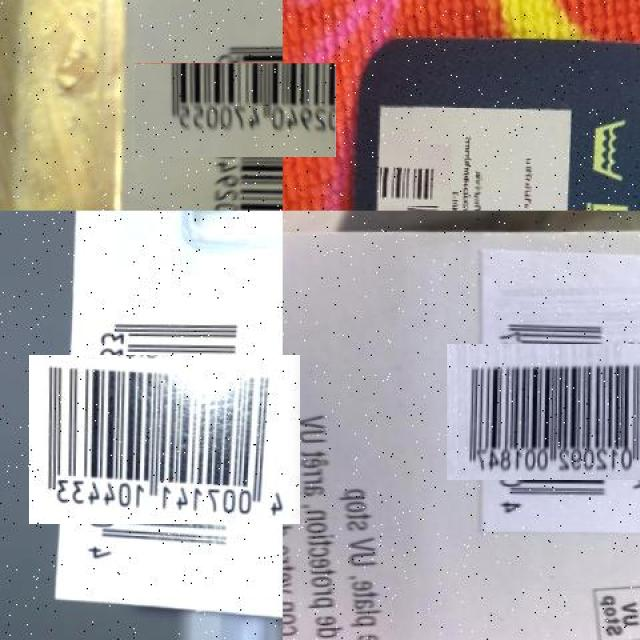Barcode: (54, 330, 275, 550), (469, 322, 640, 502), (162, 36, 310, 184), (382, 141, 449, 208)
